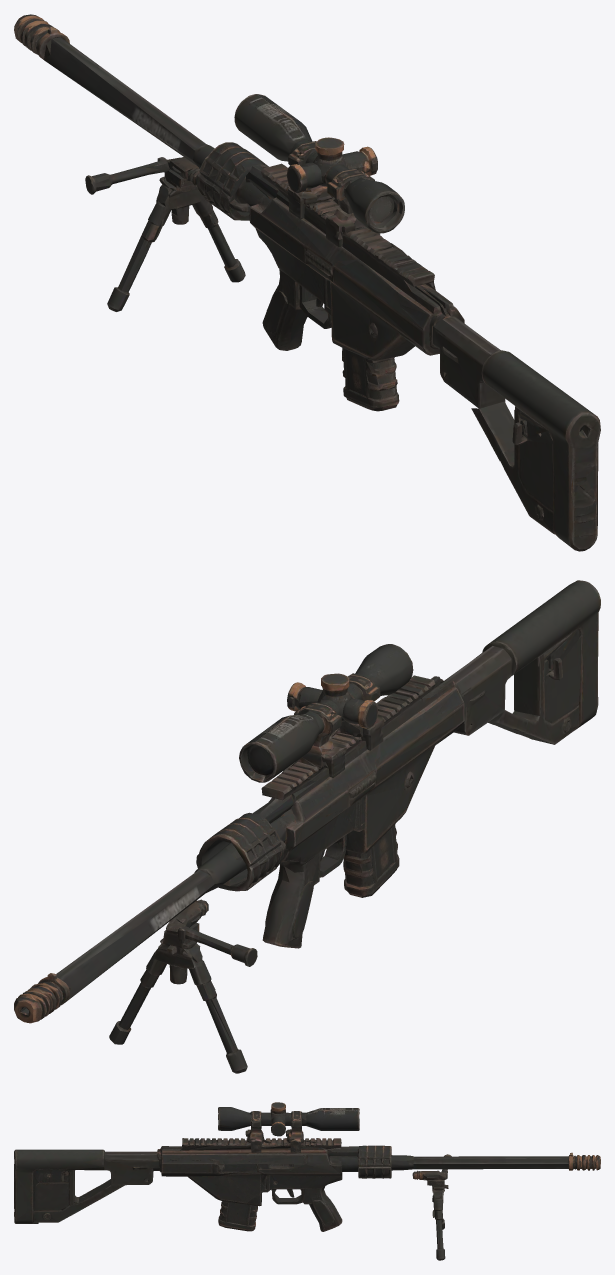
The model's file is tower_sniper.glb.
The picture shows the model from 3 angles, top to bottom: view 1: azimuth 30°, elevation 25°; view 2: azimuth 150°, elevation 25°; view 3: azimuth 270°, elevation 25°; orthographic projection. The views are drawn at different scales.
Parts seen in each view (by area): view 1: tower_sniper; view 2: tower_sniper; view 3: tower_sniper.
Part boxes in pixels (bbox=[...]): tower_sniper: bbox=[14, 14, 600, 551]; tower_sniper: bbox=[14, 580, 600, 1073]; tower_sniper: bbox=[14, 1102, 600, 1260].
Bounding box in the file's own units: 0.3699 × 0.6317 × 2.4.
1 material, 1 textured.
